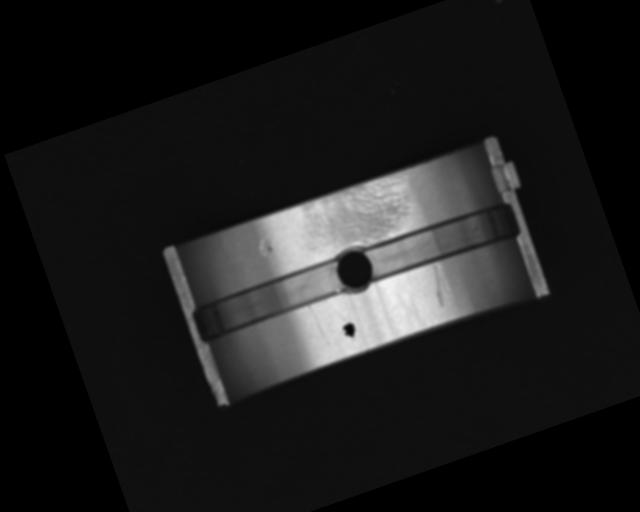blot: (339, 320, 360, 344)
bruise: (256, 236, 274, 256)
gap: (363, 197, 522, 284), (190, 257, 349, 344)
hole: (329, 243, 380, 300)
nick: (424, 262, 457, 309), (308, 303, 329, 346)
scratch: (289, 168, 424, 264)
